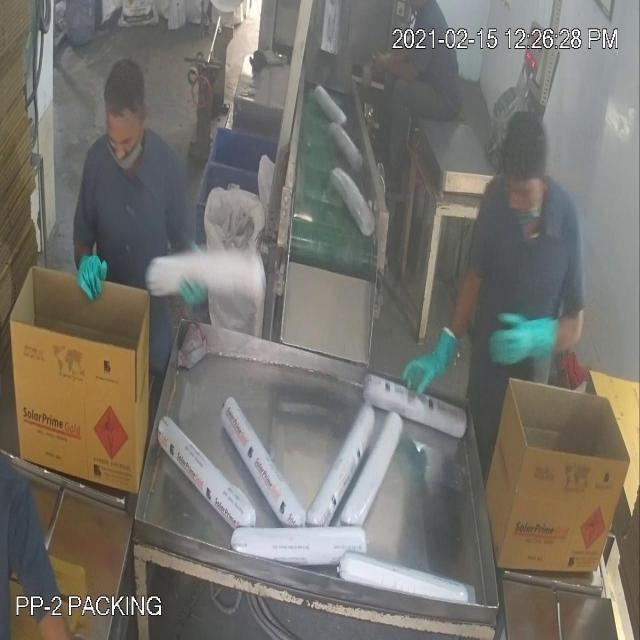Gloves: (42, 46, 528, 360)
